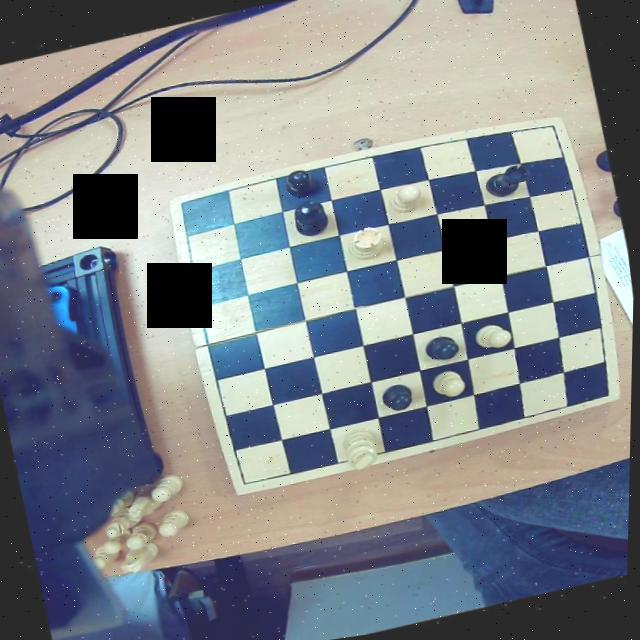chess-table-corners: (172, 194, 200, 220), (591, 385, 622, 406), (232, 470, 259, 494), (542, 118, 567, 142)
